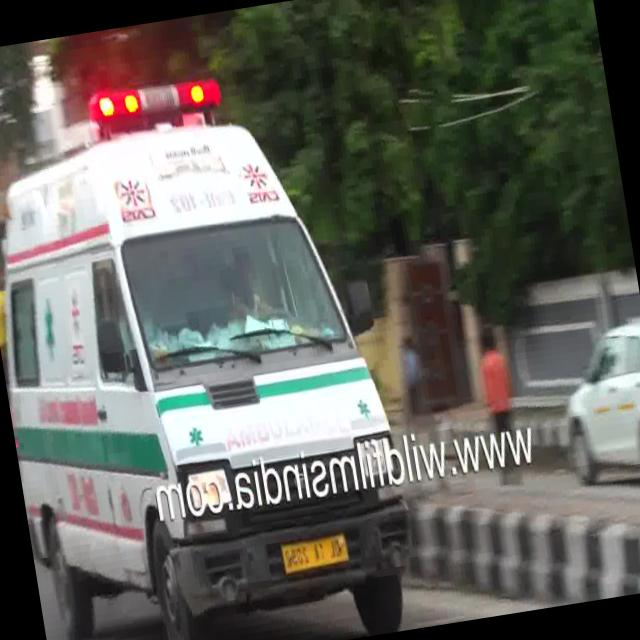ambulance: (0, 49, 435, 640)
